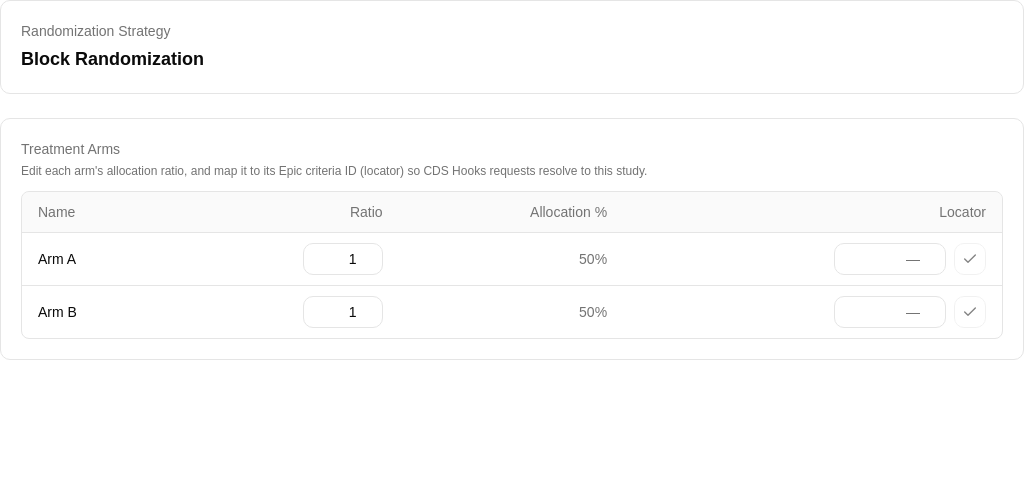
Test: StudyConfigPage — editable ratios › re-enters through Review changes after edits revert to unchanged
Expected: the heading "Treatment Arms" is shown, top-left (21, 141), bottom-right (120, 157)
Replace the text in the number field named "ratio for arm Arm A" with "3" at (343, 259), box top-left (303, 243), bottom-right (383, 275)
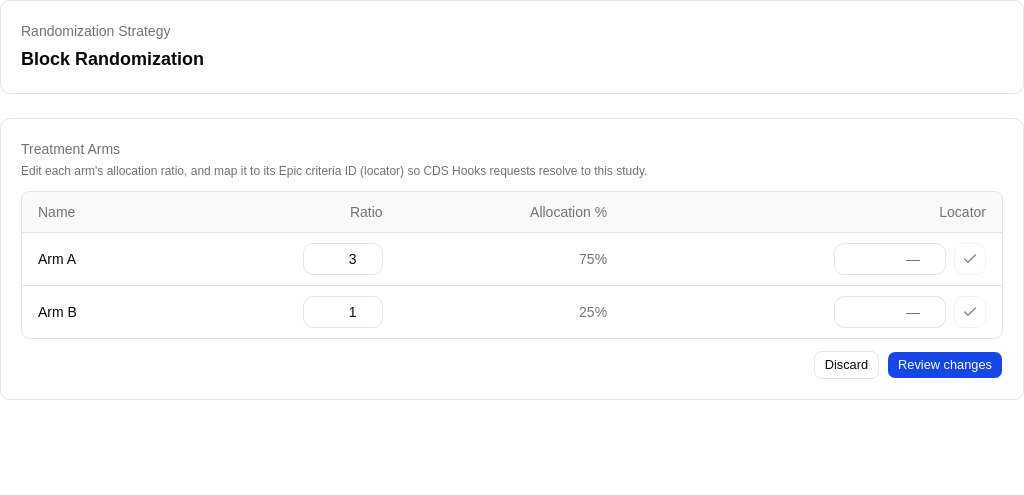
Click the button "Review changes" at (945, 365), box top-left (887, 351), bottom-right (1003, 379)
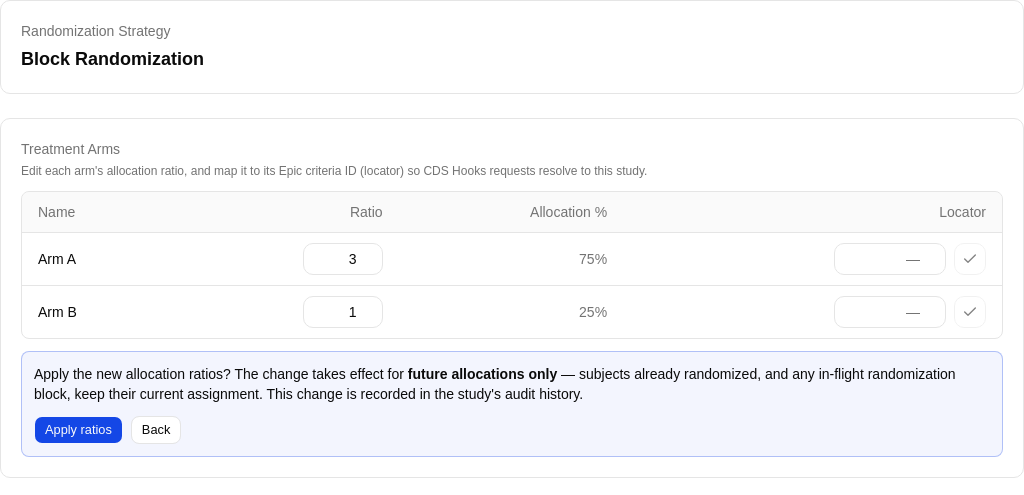
Expected: the text "future allocations only" is shown, top-left (408, 366), bottom-right (557, 382)
# Revert to the original ratio: the confirm panel collapses.
Replace the text in the number field named "ratio for arm Arm A" with "1" at (343, 259), box top-left (303, 243), bottom-right (383, 275)
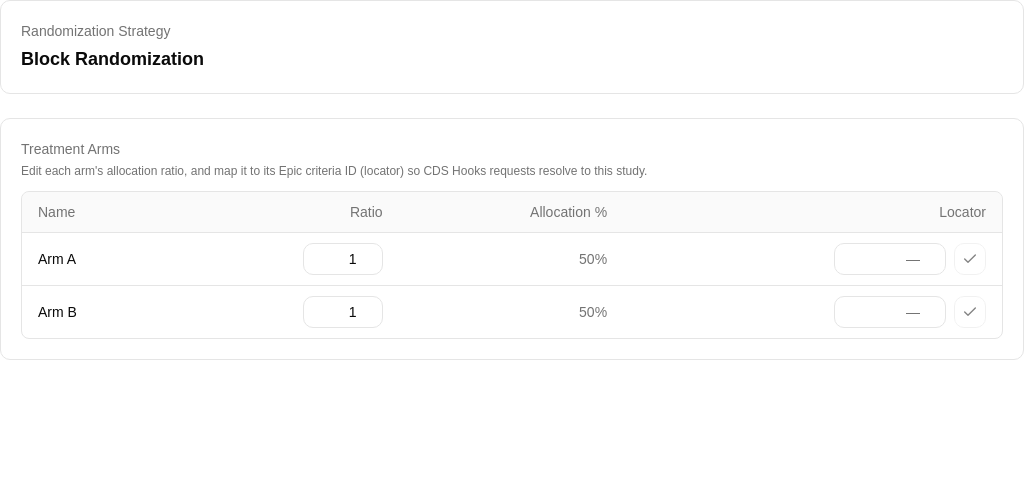
Expected: the text "future allocations only" is gone
# A fresh edit returns to "Review changes", not straight to confirm.
Replace the text in the number field named "ratio for arm Arm A" with "2" at (343, 259), box top-left (303, 243), bottom-right (383, 275)
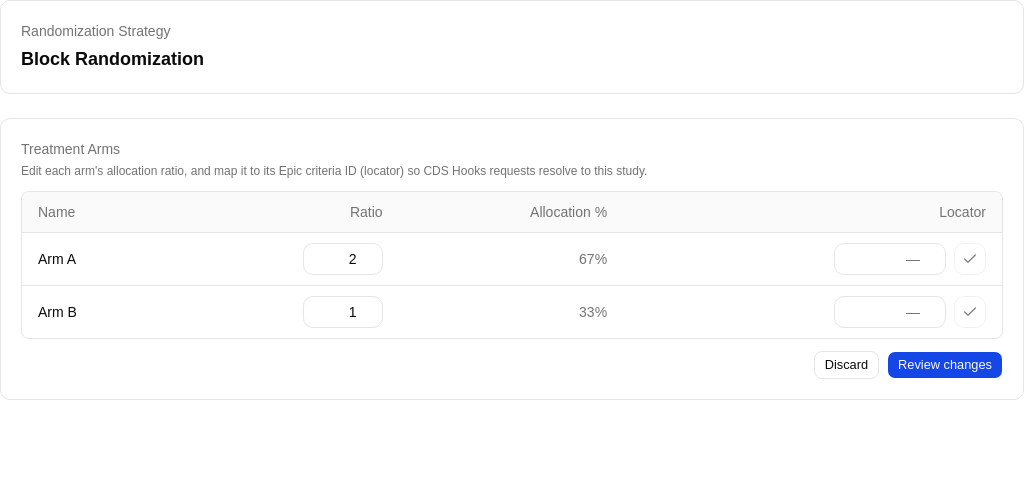
Expected: the text "future allocations only" is not shown
Expected: the button "Review changes" is shown, top-left (887, 351), bottom-right (1003, 379)
